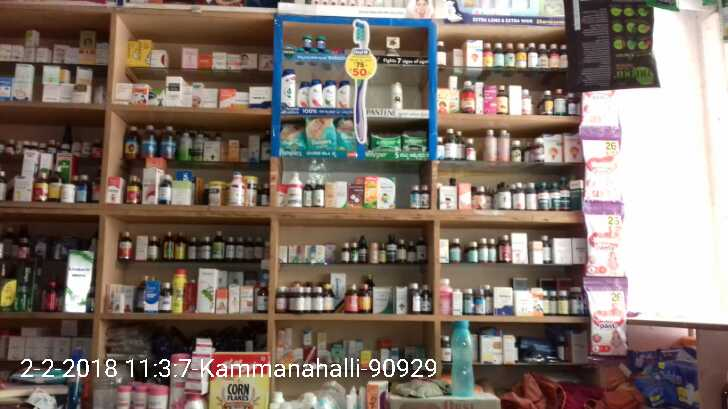beauty: (281, 68, 296, 106), (390, 79, 403, 112), (335, 80, 349, 110), (310, 78, 323, 107), (323, 80, 335, 108), (385, 33, 400, 55), (296, 82, 308, 107)
pharmacy: (304, 115, 336, 149), (280, 118, 305, 151), (335, 119, 358, 153), (400, 131, 428, 156), (369, 128, 398, 150), (316, 35, 327, 52), (302, 34, 312, 49)
